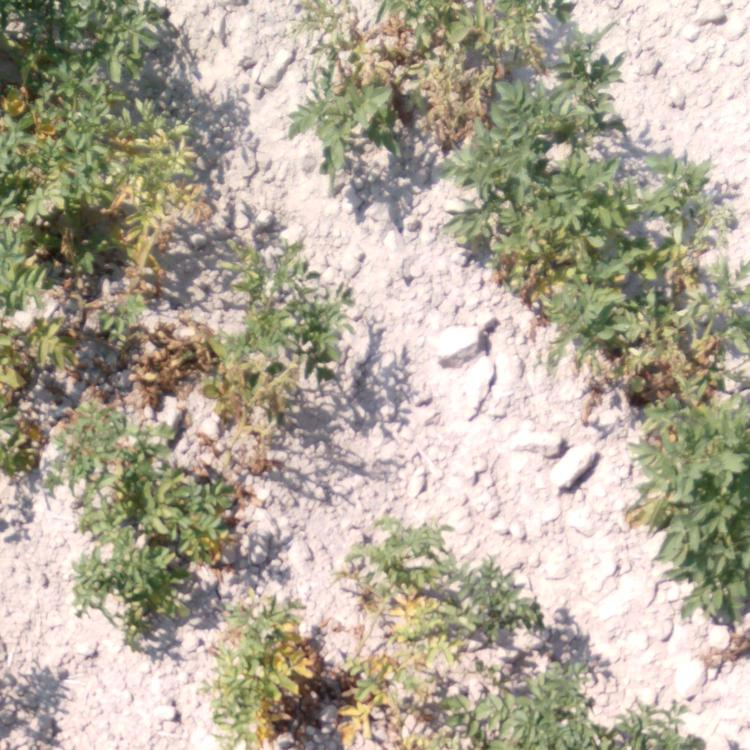healthy: (638, 412, 747, 633), (448, 161, 729, 235), (469, 658, 673, 745), (3, 4, 176, 71), (528, 48, 619, 139), (474, 553, 546, 640)
stressed: (482, 248, 729, 396), (285, 5, 520, 150), (327, 522, 474, 747), (1, 87, 183, 254), (99, 408, 220, 610), (104, 266, 231, 402), (1, 273, 87, 466), (222, 597, 318, 742), (244, 239, 361, 354), (238, 355, 290, 492)
